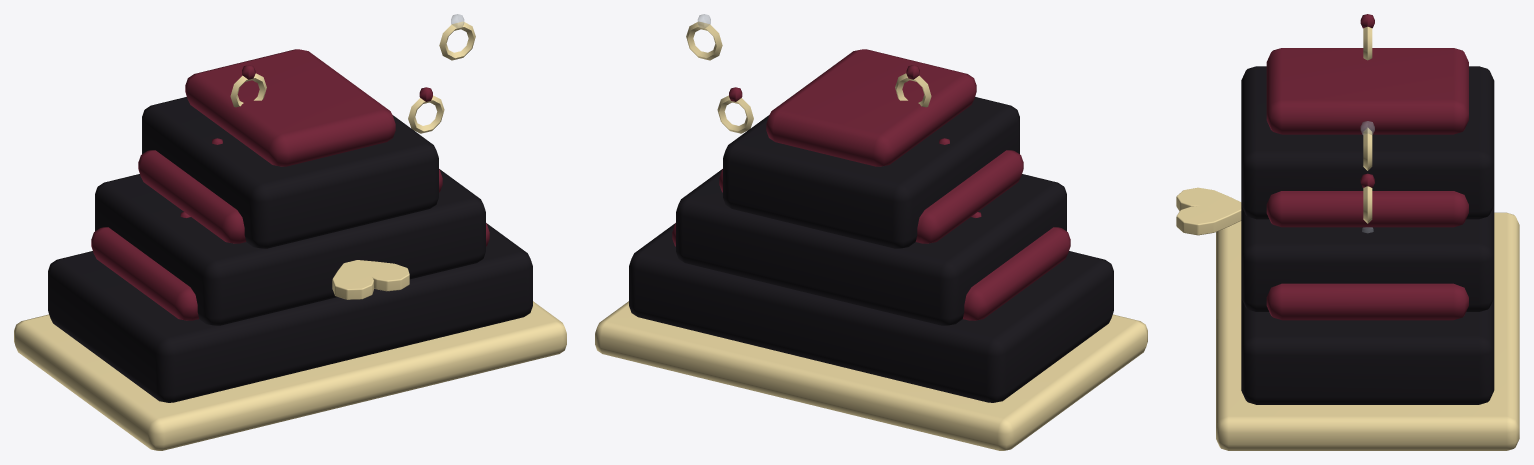
File: ring_tree_stand.glb
3 views of the same model, side by side, from view 1: azimuth 30°, elevation 25°; view 2: azimuth 150°, elevation 25°; view 3: azimuth 270°, elevation 25° (orthographic). The views are drawn at different scales.
Parts seen in each view (by area): view 1: ring_tree_stand; view 2: ring_tree_stand; view 3: ring_tree_stand.
Boxes of the visible parts, x1,y1,x2,y2 form: ring_tree_stand: [14, 14, 566, 450]; ring_tree_stand: [595, 14, 1147, 450]; ring_tree_stand: [1176, 14, 1519, 450].
Bounding box in the file's own units: 0.4 × 0.2735 × 0.2713.
